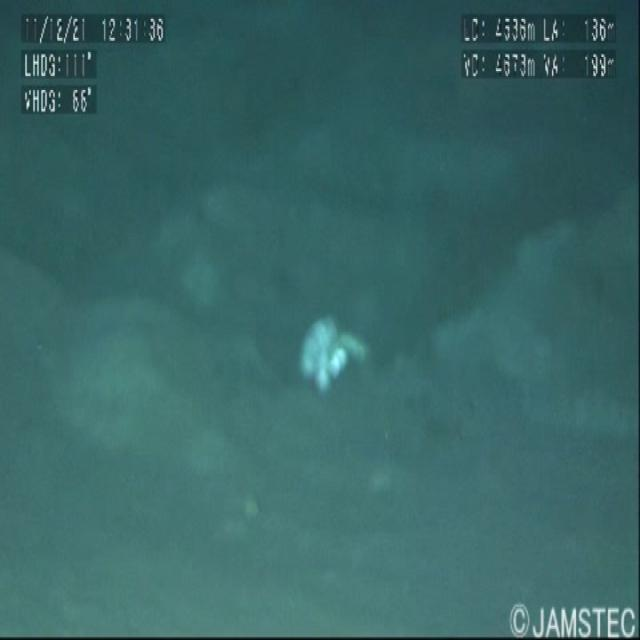Litter: (277, 281, 383, 409)
